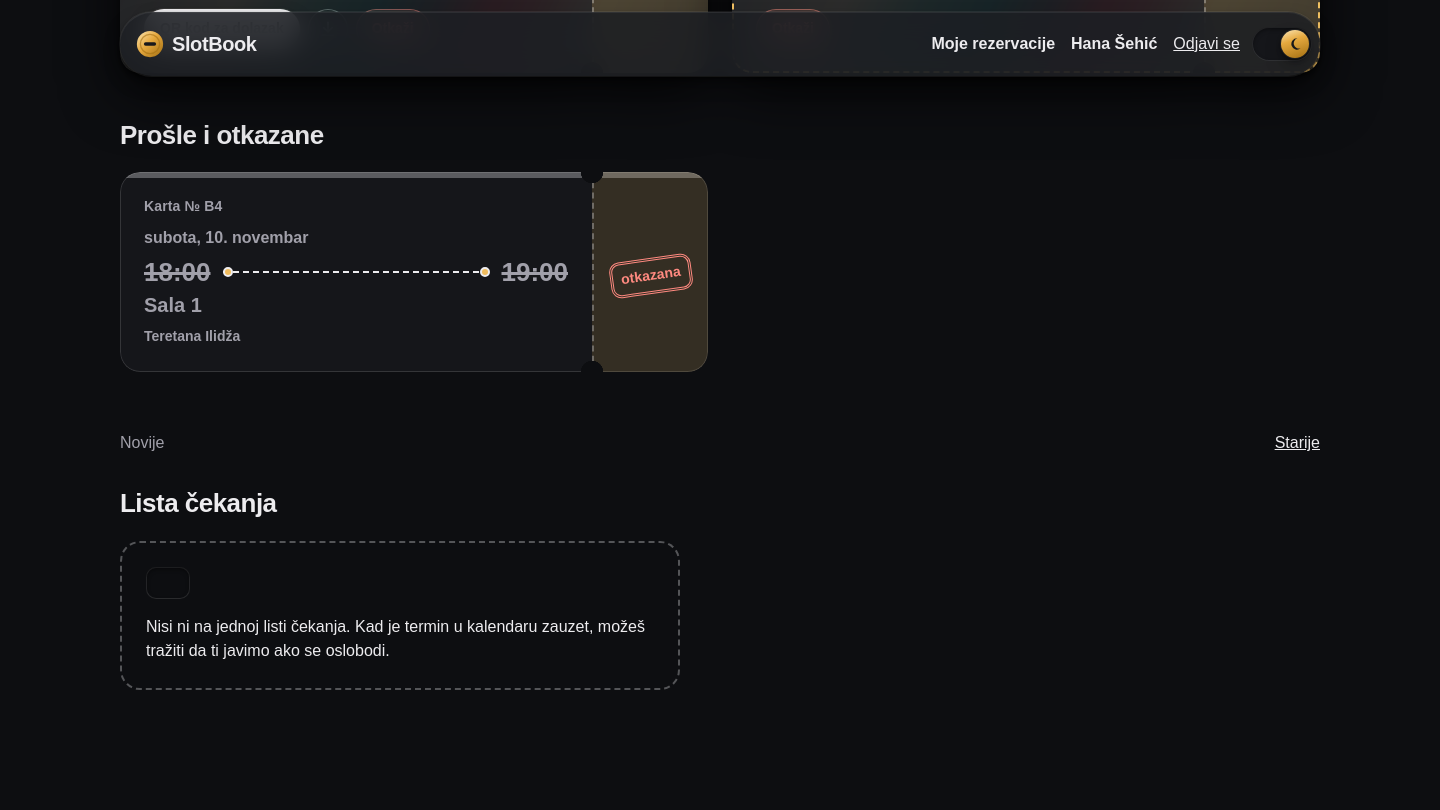
lista › starije rezervacije su na sljedećoj stranici
This screenshot has width=1440, height=810.
(page scrolled)
expect the button "Novije" is disabled: met, box [120,420,164,468]
Click the button "Starije" at (1297, 444), box [1275,420,1320,468]
(page scrolled)
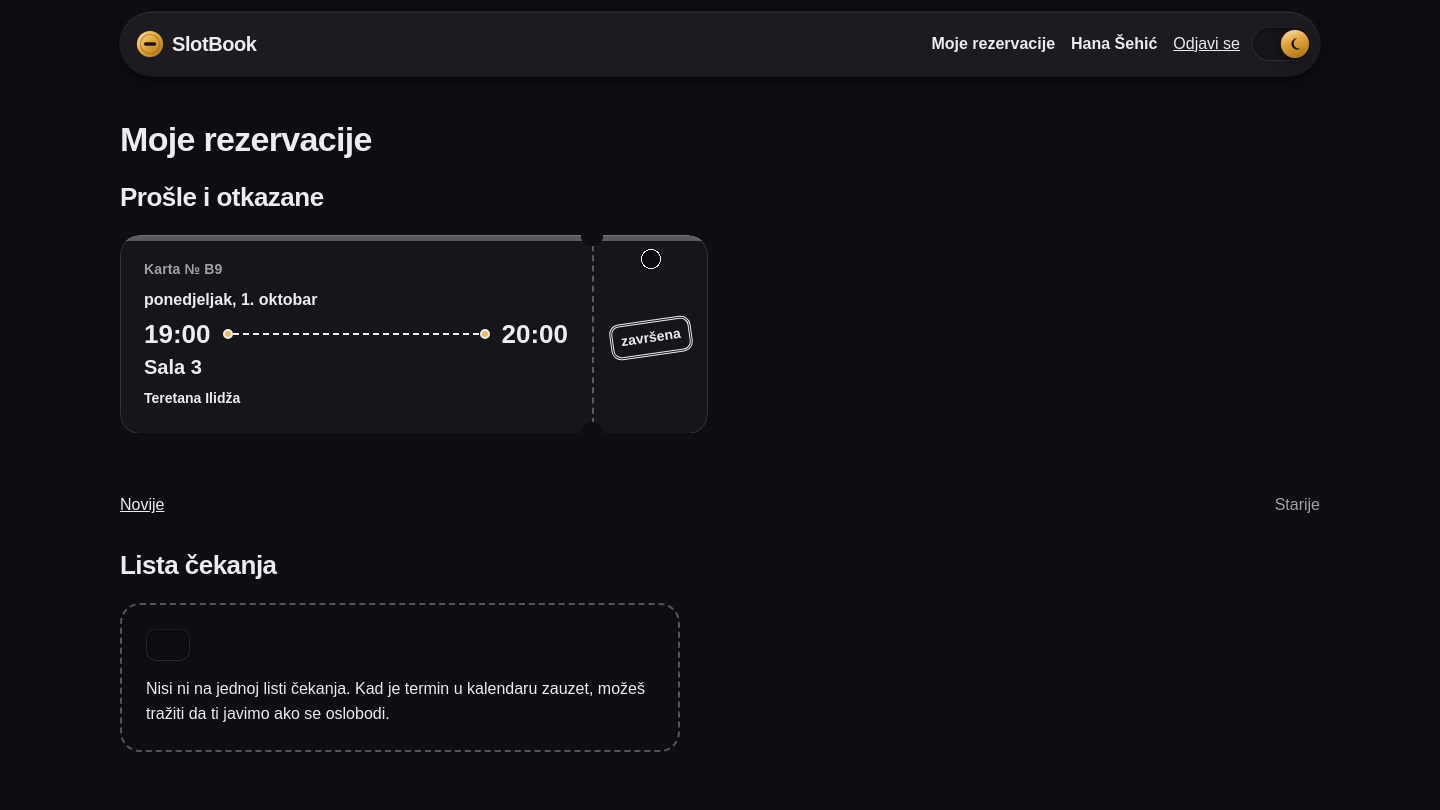
expect the text "Sala 3" is shown: met, box [144,356,202,378]
expect the button "Starije" is disabled: met, box [1275,482,1320,530]
